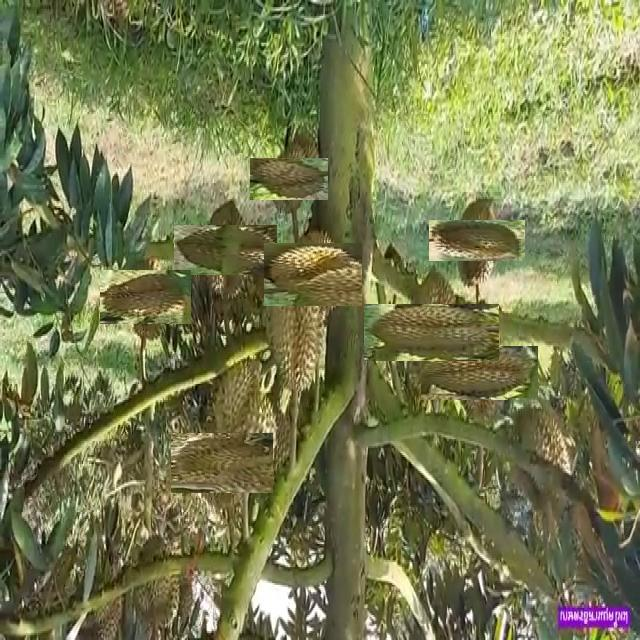durian: (206, 338, 278, 481), (258, 251, 324, 398), (383, 284, 480, 381), (508, 398, 574, 520), (437, 330, 522, 416), (182, 422, 263, 504), (272, 234, 353, 315), (186, 211, 264, 289), (109, 261, 182, 334), (131, 530, 183, 632), (443, 207, 511, 275), (259, 148, 319, 209)
